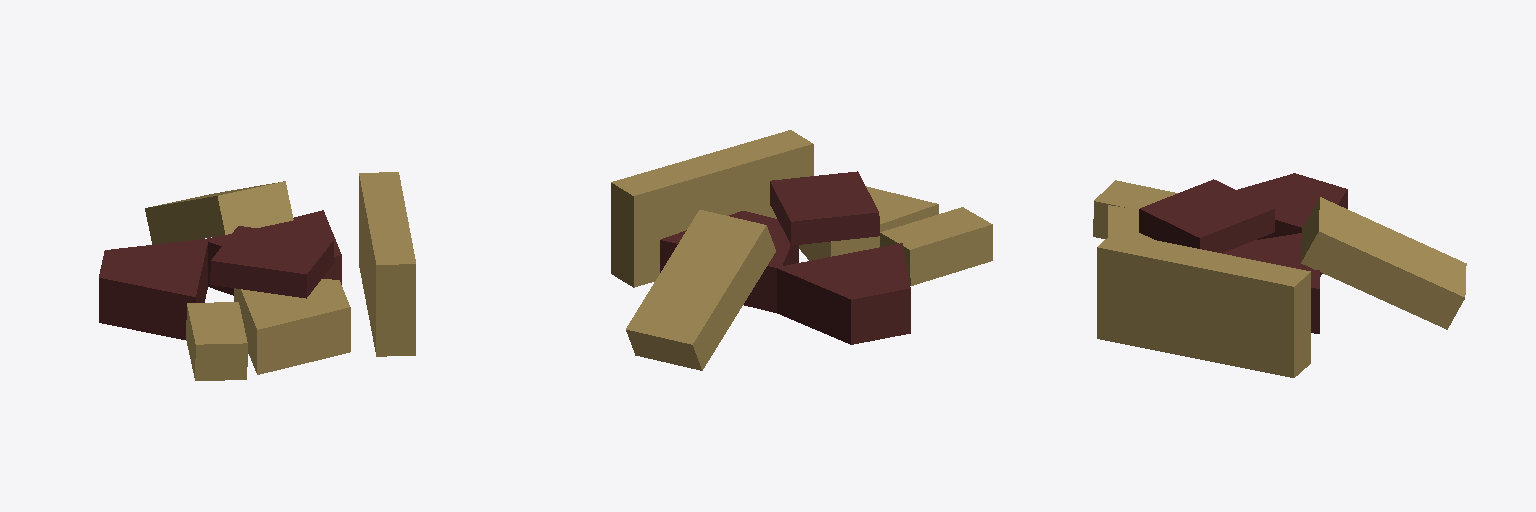
The model's file is debris.obj.
The picture shows the model from 3 angles: view 1: azimuth 30°, elevation 25°; view 2: azimuth 150°, elevation 25°; view 3: azimuth 270°, elevation 25°; orthographic projection.
Parts seen in each view (by area): view 1: pCube5, pCube3, pCube4, pCube8, pCube6, pCube7, pCube2; view 2: pCube5, pCube6, pCube3, pCube8, pCube7, pCube4, pCube2; view 3: pCube5, pCube6, pCube8, pCube3, pCube2, pCube7, pCube4.
Part boxes in pixels (x1,y1,x2,y2): pCube5: (359,172,415,356); pCube3: (99,239,208,339); pCube4: (234,279,350,374); pCube8: (210,226,333,298); pCube6: (145,181,293,244); pCube7: (186,302,247,380); pCube2: (207,210,341,295); pCube5: (611,130,813,287); pCube6: (626,210,775,370); pCube3: (775,243,910,344); pCube8: (770,171,879,245); pCube7: (880,207,992,285); pCube4: (799,186,938,260); pCube2: (660,211,798,312); pCube5: (1097,232,1310,377); pCube6: (1301,197,1466,329); pCube8: (1139,179,1274,252); pCube3: (1237,173,1347,276); pCube2: (1222,233,1319,333); pCube7: (1093,180,1177,238); pCube4: (1108,205,1153,239).
Size of the model in its own units: 8.43 by 2.69 by 9.09.